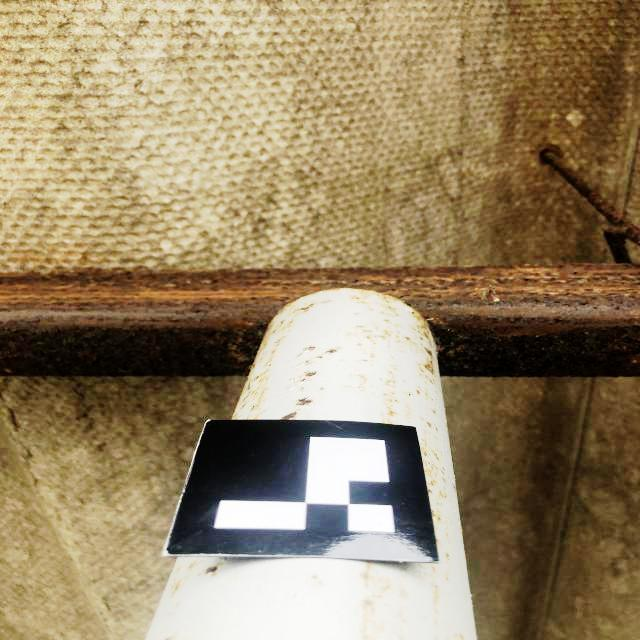Corrosion: (0, 263, 640, 377), (541, 149, 640, 263), (273, 288, 432, 346), (231, 320, 288, 420), (357, 561, 392, 640), (274, 299, 333, 333), (420, 428, 443, 495), (345, 322, 394, 350), (170, 560, 203, 598), (378, 370, 401, 424), (293, 346, 342, 368), (415, 342, 435, 385), (286, 370, 319, 391), (430, 487, 447, 524), (394, 329, 418, 354), (197, 564, 221, 578), (349, 374, 367, 391), (296, 344, 317, 358), (295, 396, 316, 407), (431, 582, 441, 605), (394, 606, 407, 623), (280, 411, 301, 420), (383, 318, 401, 328), (397, 583, 409, 598), (404, 402, 412, 422), (424, 387, 433, 402), (427, 421, 439, 432), (362, 349, 375, 358), (246, 413, 260, 420), (164, 633, 177, 640), (415, 386, 424, 396), (389, 363, 399, 371), (355, 359, 369, 364), (403, 391, 414, 397), (446, 551, 452, 561), (446, 571, 451, 582), (429, 407, 436, 414), (299, 386, 308, 391), (458, 633, 464, 640), (175, 602, 181, 608), (440, 467, 445, 474), (431, 565, 436, 572), (441, 478, 446, 484), (312, 574, 318, 579), (319, 386, 325, 390), (453, 485, 456, 493), (436, 538, 440, 544), (446, 533, 449, 539), (168, 613, 174, 616), (434, 526, 438, 530), (344, 385, 349, 388)
